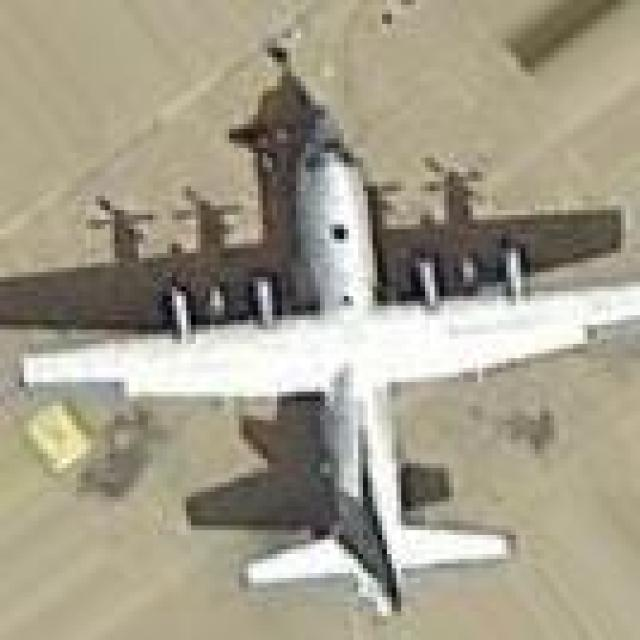C-130_TopDown: (0, 34, 640, 623)
